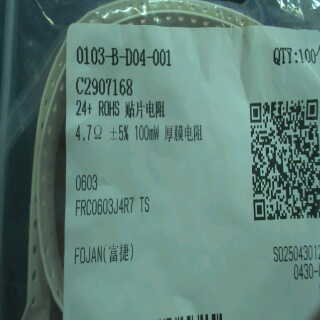4.7R: (72, 121, 108, 146)
